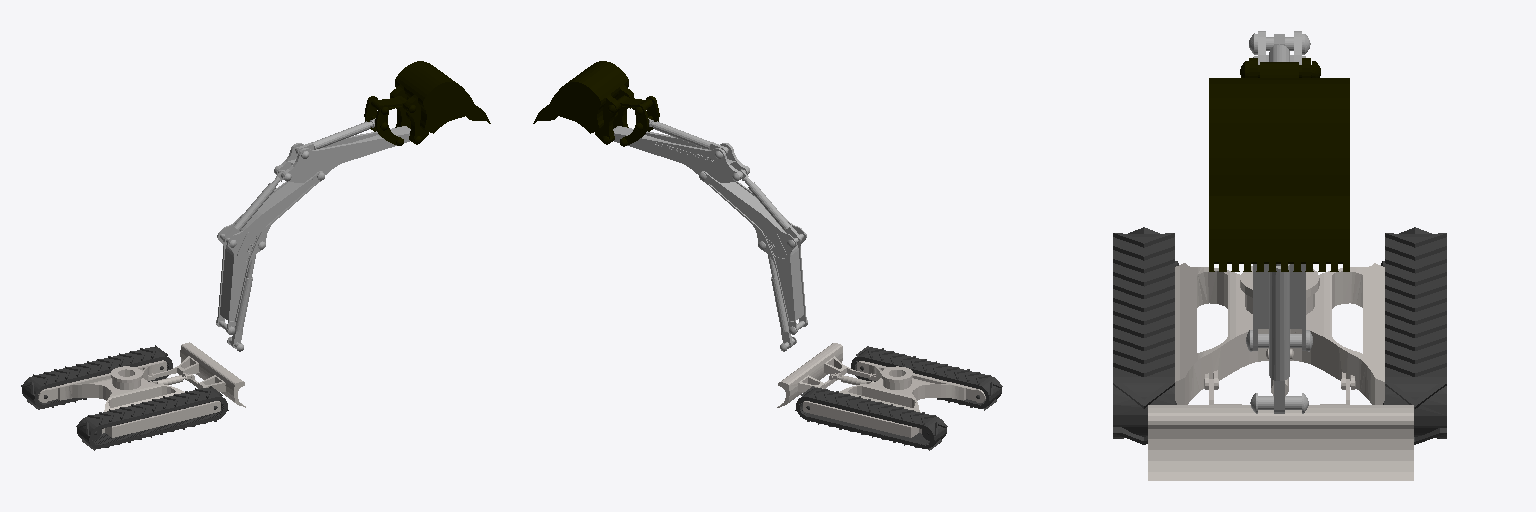
robot.urdf — URDF:
<?xml version="1.0" encoding="utf-8"?>
<!-- This URDF was automatically created by SolidWorks to URDF Exporter! Originally created by [author] ([email redacted]) 
     Commit Version: 1.6.0-4-g7f85cfe  Build Version: 1.6.7995.38578
     For more information, please see http://wiki.ros.org/sw_urdf_exporter -->
<robot
  name="URDF">
  <link
    name="base_link">
    <inertial>
      <origin
        xyz="0.57336 0.0015066 0.050059"
        rpy="0 0 0" />
      <mass
        value="1021.3" />
      <inertia
        ixx="290.53"
        ixy="-1.4256"
        ixz="-7.6081"
        iyy="627.27"
        iyz="-0.030415"
        izz="896.81" />
    </inertial>
    <visual>
      <origin
        xyz="0 0 0"
        rpy="0 0 0" />
      <geometry>
        <mesh
          filename="package://URDF/meshes/base_link.STL" />
      </geometry>
      <material
        name="">
        <color
          rgba="0.77647 0.75686 0.73725 1" />
      </material>
    </visual>
    <collision>
      <origin
        xyz="0 0 0"
        rpy="0 0 0" />
      <geometry>
        <mesh
          filename="package://URDF/meshes/base_link.STL" />
      </geometry>
    </collision>
  </link>
  <link
    name="body_yaw_link">
    <inertial>
      <origin
        xyz="0.10797 0.010529 0.39466"
        rpy="0 0 0" />
      <mass
        value="6265.6" />
      <inertia
        ixx="2571"
        ixy="174.73"
        ixz="51.483"
        iyy="3693.9"
        iyz="-119.71"
        izz="3935.3" />
    </inertial>
    <visual>
      <origin
        xyz="0 0 0"
        rpy="0 0 0" />
      <geometry>
        <mesh
          filename="package://URDF/meshes/body_yaw_link.STL" />
      </geometry>
      <material
        name="">
        <color
          rgba="0.89804 0.91765 0.92941 1" />
      </material>
    </visual>
    <collision>
      <origin
        xyz="0 0 0"
        rpy="0 0 0" />
      <geometry>
        <mesh
          filename="package://URDF/meshes/body_yaw_link.STL" />
      </geometry>
    </collision>
  </link>
  <joint
    name="body_yaw_joint"
    type="continuous">
    <origin
      xyz="0 0 0.36323"
      rpy="0 0 0" />
    <parent
      link="base_link" />
    <child
      link="body_yaw_link" />
    <axis
      xyz="0 0 1" />
  </joint>
  <link
    name="boom_pitch_link">
    <inertial>
      <origin
        xyz="0.41734 -1.1342 -0.041545"
        rpy="0 0 0" />
      <mass
        value="724.95" />
      <inertia
        ixx="282.06"
        ixy="118.33"
        ixz="0.015773"
        iyy="101.11"
        iyz="-0.20155"
        izz="371.18" />
    </inertial>
    <visual>
      <origin
        xyz="0 0 0"
        rpy="0 0 0" />
      <geometry>
        <mesh
          filename="package://URDF/meshes/boom_pitch_link.STL" />
      </geometry>
      <material
        name="">
        <color
          rgba="0.69804 0.69804 0.69804 1" />
      </material>
    </visual>
    <collision>
      <origin
        xyz="0 0 0"
        rpy="0 0 0" />
      <geometry>
        <mesh
          filename="package://URDF/meshes/boom_pitch_link.STL" />
      </geometry>
    </collision>
  </link>
  <joint
    name="boom_pitch_joint"
    type="revolute">
    <origin
      xyz="1.5882 0.039526 0.36333"
      rpy="-1.5708 0 0" />
    <parent
      link="body_yaw_link" />
    <child
      link="boom_pitch_link" />
    <axis
      xyz="0 0 1" />
    <limit
      lower="0"
      upper="1.3703"
      effort="0"
      velocity="0" />
  </joint>
  <link
    name="forearm_pitch_link">
    <inertial>
      <origin
        xyz="0.35212 -0.22555 -0.3281"
        rpy="0 0 0" />
      <mass
        value="640.95" />
      <inertia
        ixx="17.247"
        ixy="14.701"
        ixz="-0.056743"
        iyy="203.33"
        iyz="-0.030327"
        izz="211.07" />
    </inertial>
    <visual>
      <origin
        xyz="0 0 0"
        rpy="0 0 0" />
      <geometry>
        <mesh
          filename="package://URDF/meshes/forearm_pitch_link.STL" />
      </geometry>
      <material
        name="">
        <color
          rgba="0.69804 0.69804 0.69804 1" />
      </material>
    </visual>
    <collision>
      <origin
        xyz="0 0 0"
        rpy="0 0 0" />
      <geometry>
        <mesh
          filename="package://URDF/meshes/forearm_pitch_link.STL" />
      </geometry>
    </collision>
  </link>
  <joint
    name="forearm_pitch_joint"
    type="revolute">
    <origin
      xyz="1.4233 -2.0381 0.28664"
      rpy="0 0 0" />
    <parent
      link="boom_pitch_link" />
    <child
      link="forearm_pitch_link" />
    <axis
      xyz="0 0 1" />
    <limit
      lower="0"
      upper="0.89604"
      effort="0"
      velocity="0" />
  </joint>
  <link
    name="bucket_pitch_link">
    <inertial>
      <origin
        xyz="0.12513 -0.36554 -0.62459"
        rpy="0 0 0" />
      <mass
        value="652.59" />
      <inertia
        ixx="71.86"
        ixy="9.2442"
        ixz="0.13313"
        iyy="143.61"
        iyz="-0.028274"
        izz="148.11" />
    </inertial>
    <visual>
      <origin
        xyz="0 0 0"
        rpy="0 0 0" />
      <geometry>
        <mesh
          filename="package://URDF/meshes/bucket_pitch_link.STL" />
      </geometry>
      <material
        name="">
        <color
          rgba="0.12157 0.12157 0 1" />
      </material>
    </visual>
    <collision>
      <origin
        xyz="0 0 0"
        rpy="0 0 0" />
      <geometry>
        <mesh
          filename="package://URDF/meshes/bucket_pitch_link.STL" />
      </geometry>
    </collision>
  </link>
  <joint
    name="bucket_pitch_joint"
    type="revolute">
    <origin
      xyz="1.4765 -0.24997 0.29735"
      rpy="0 0 0" />
    <parent
      link="forearm_pitch_link" />
    <child
      link="bucket_pitch_link" />
    <axis
      xyz="0 0 1" />
    <limit
      lower="0"
      upper="2.2837"
      effort="0"
      velocity="0" />
  </joint>
  <link
    name="left_wheel_link">
    <inertial>
      <origin
        xyz="0.0045643 0 0.015613"
        rpy="0 0 0" />
      <mass
        value="161.63" />
      <inertia
        ixx="4.2198"
        ixy="0.0027611"
        ixz="-0.12832"
        iyy="88.955"
        iyz="-1E-07"
        izz="90.464" />
    </inertial>
    <visual>
      <origin
        xyz="0 0 0"
        rpy="0 0 0" />
      <geometry>
        <mesh
          filename="package://URDF/meshes/left_wheel_link.STL" />
      </geometry>
      <material
        name="">
        <color
          rgba="0.29412 0.29412 0.29412 1" />
      </material>
    </visual>
    <collision>
      <origin
        xyz="0 0 0"
        rpy="0 0 0" />
      <geometry>
        <mesh
          filename="package://URDF/meshes/left_wheel_link.STL" />
      </geometry>
    </collision>
  </link>
  <joint
    name="left_wheel_joint"
    type="continuous">
    <origin
      xyz="-0.029784 0.75 0"
      rpy="-1.5708 0 0" />
    <parent
      link="base_link" />
    <child
      link="left_wheel_link" />
    <axis
      xyz="0 0 1" />
  </joint>
  <link
    name="right_wheel_link">
    <inertial>
      <origin
        xyz="0.0045644 0 -0.014765"
        rpy="0 0 0" />
      <mass
        value="161.63" />
      <inertia
        ixx="4.2335"
        ixy="0.0035709"
        ixz="0.16013"
        iyy="88.979"
        iyz="-1E-07"
        izz="90.507" />
    </inertial>
    <visual>
      <origin
        xyz="0 0 0"
        rpy="0 0 0" />
      <geometry>
        <mesh
          filename="package://URDF/meshes/right_wheel_link.STL" />
      </geometry>
      <material
        name="">
        <color
          rgba="0.29412 0.29412 0.29412 1" />
      </material>
    </visual>
    <collision>
      <origin
        xyz="0 0 0"
        rpy="0 0 0" />
      <geometry>
        <mesh
          filename="package://URDF/meshes/right_wheel_link.STL" />
      </geometry>
    </collision>
  </link>
  <joint
    name="right_wheel_joint"
    type="continuous">
    <origin
      xyz="-0.029784 -0.75 0"
      rpy="-1.5708 0 0" />
    <parent
      link="base_link" />
    <child
      link="right_wheel_link" />
    <axis
      xyz="0 0 1" />
  </joint>
</robot>

--- What the picture shows (computed from the rendered views, not written in the file) ---
The picture shows the robot from 3 angles, left to right: view 1: azimuth 30°, elevation 25°; view 2: azimuth 150°, elevation 25°; view 3: azimuth 270°, elevation 25°; orthographic projection.
Model URDF with 7 links and 6 joints (3 revolute, 3 continuous), rooted at base_link, posed all joints at 0.
Visible links, largest first — view 1: base_link, boom_pitch_link, bucket_pitch_link, right_wheel_link, forearm_pitch_link, left_wheel_link; view 2: base_link, boom_pitch_link, bucket_pitch_link, left_wheel_link, forearm_pitch_link, right_wheel_link; view 3: base_link, bucket_pitch_link, right_wheel_link, left_wheel_link, boom_pitch_link, forearm_pitch_link.
Boxes of the visible links, x1,y1,x2,y2 form: base_link: (38,342,245,437); boom_pitch_link: (216,170,324,351); bucket_pitch_link: (364,61,490,145); right_wheel_link: (76,386,228,450); forearm_pitch_link: (274,118,410,182); left_wheel_link: (21,345,172,409); base_link: (777,343,985,437); boom_pitch_link: (700,169,807,351); bucket_pitch_link: (533,61,659,146); left_wheel_link: (795,386,947,450); forearm_pitch_link: (613,118,749,182); right_wheel_link: (851,346,1002,410); base_link: (1148,263,1413,480); bucket_pitch_link: (1209,58,1349,271); right_wheel_link: (1113,227,1178,444); left_wheel_link: (1381,227,1446,444); boom_pitch_link: (1246,264,1312,413); forearm_pitch_link: (1249,31,1310,64).
Bounding box of the posed robot: 6.82 × 1.89 × 4.08 m (x, y, z).
Meshes: 7 distinct files referenced, 6 mesh visuals loaded (6 binary STL); not drawn: 1 (reference not matched to a file when rendering).